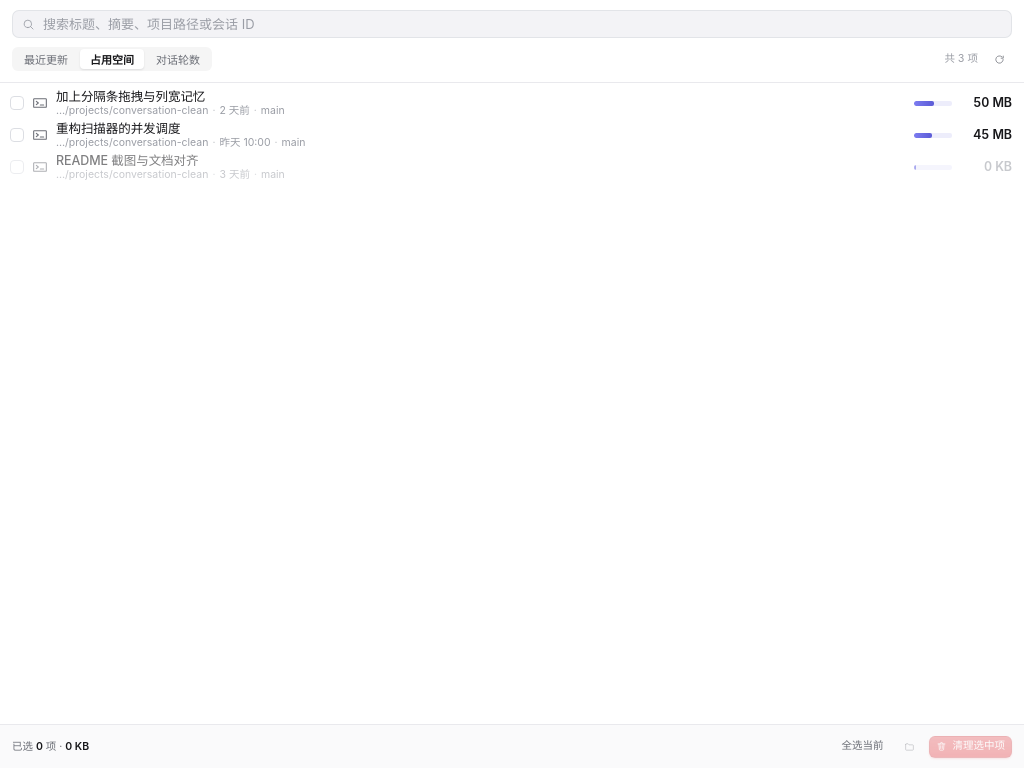
Test: ConversationListView · 搜索过滤 › 输入搜索词后只留匹配的会话，清除后恢复
In the field with placeholder "搜索标题、摘要、项目路径或会话 ID": (522, 24) x1=41 y1=15 x2=1003 y2=33, type "README"
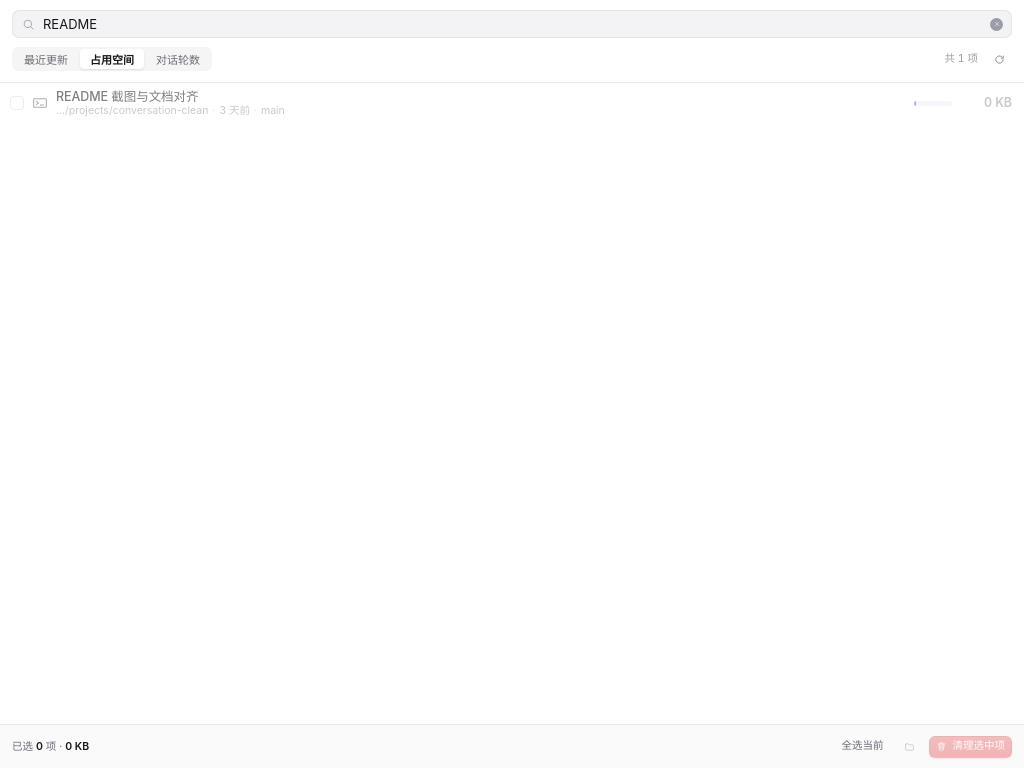
Now the text "共 1 项" is shown, box x1=944 y1=51 x2=978 y2=67
Click the button named "清除搜索词": (996, 24) x1=990 y1=18 x2=1003 y2=30
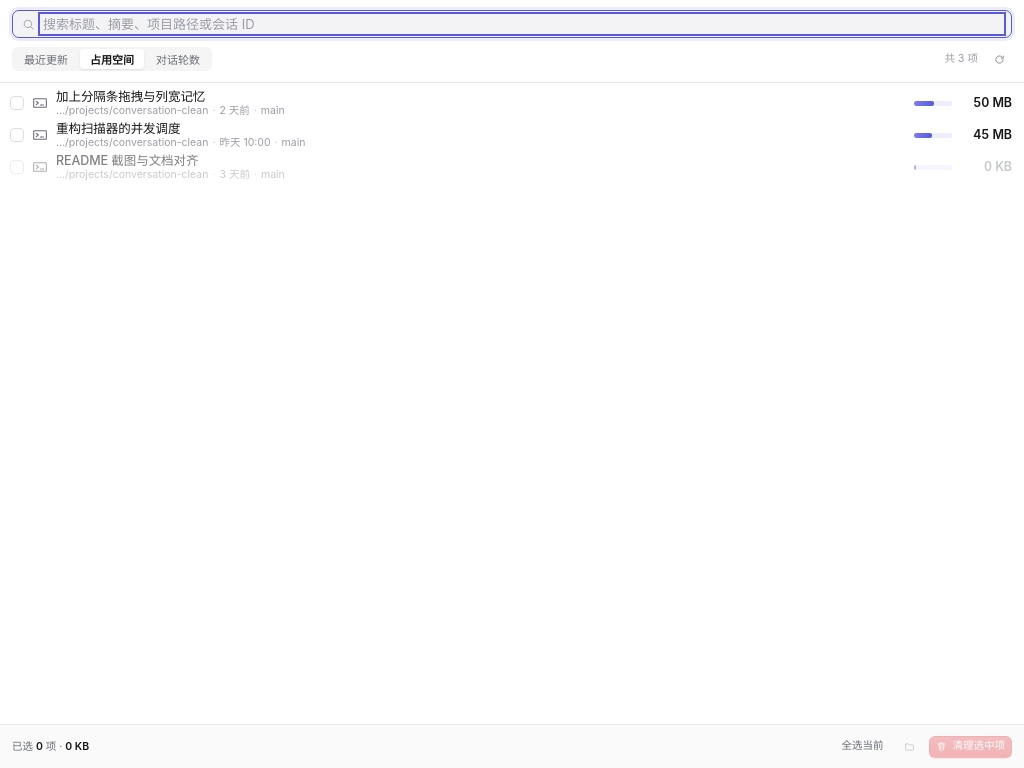
Now the field with placeholder "搜索标题、摘要、项目路径或会话 ID" is empty, box x1=41 y1=15 x2=1003 y2=33
